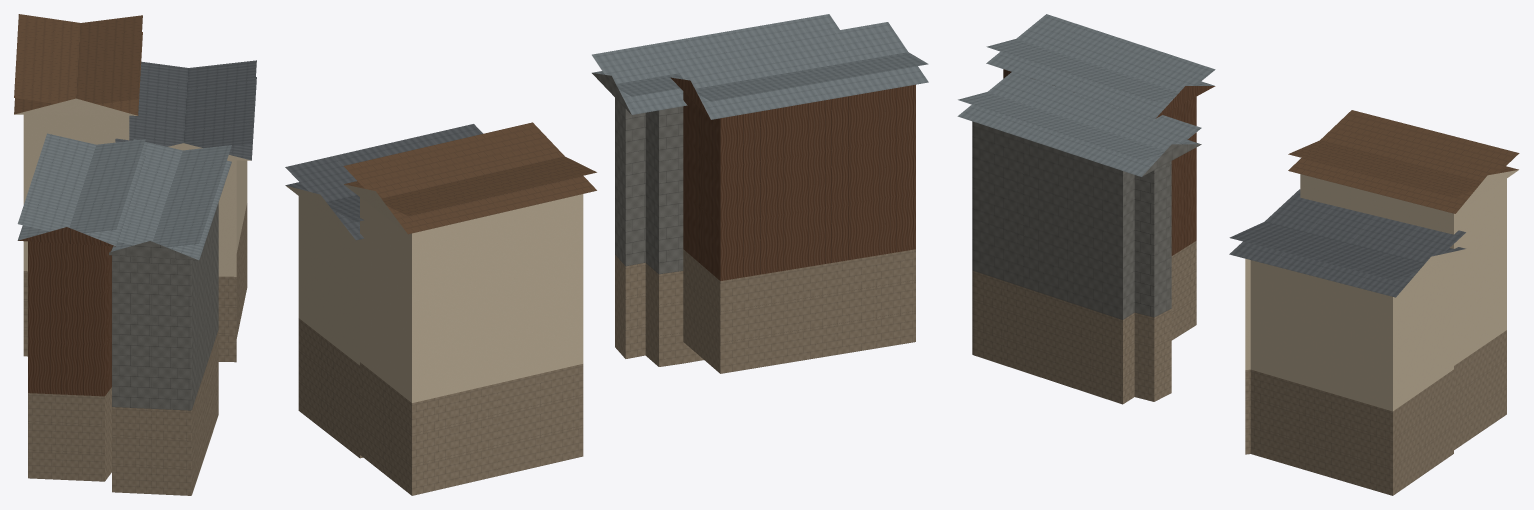
The model's file is bld_c-22_11_546.gltf.
3 views of the same model, side by side, from view 1: azimuth 30°, elevation 25°; view 2: azimuth 150°, elevation 25°; view 3: azimuth 270°, elevation 25° (orthographic). The views are drawn at different scales.
Visible parts, largest first — view 1: bld_c-22_11_546; view 2: bld_c-22_11_546; view 3: bld_c-22_11_546.
Part boxes in pixels (x1,y1,x2,y2): bld_c-22_11_546: (14,14,256,495); bld_c-22_11_546: (285,14,928,495); bld_c-22_11_546: (957,14,1519,495).
Size of the model in its own units: 26.01 by 17.3 by 30.77.
Materials: 10 (10 with a texture image).
